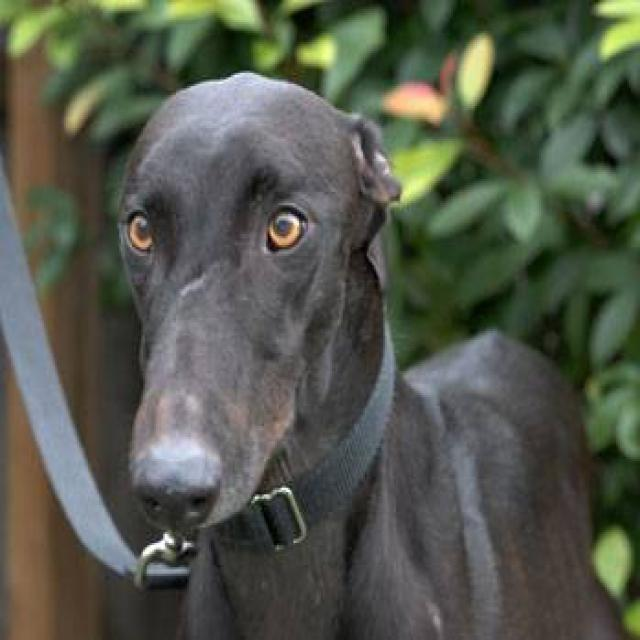dogs: (76, 74, 632, 640)
